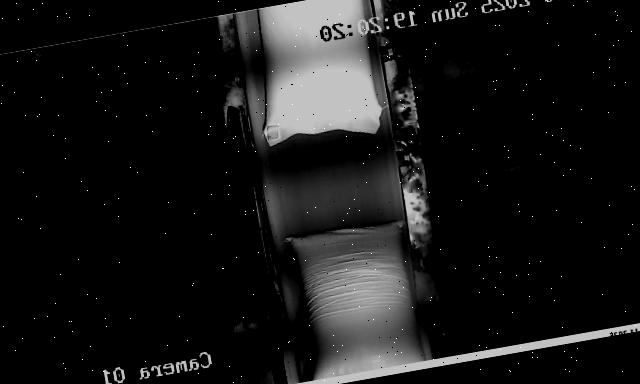bag: (282, 217, 427, 381), (242, 0, 385, 152)
